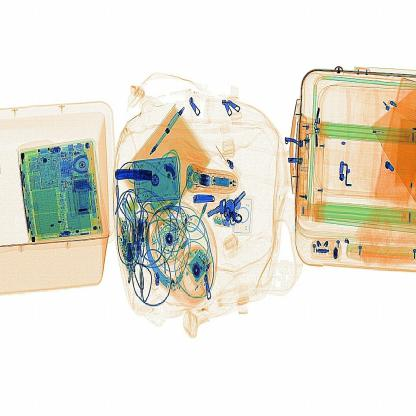knife: (110, 162, 154, 192)
